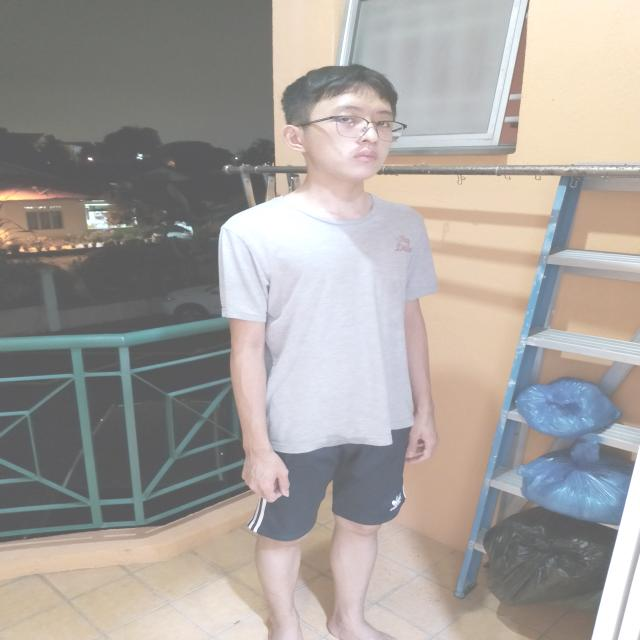person_without_labcoat: (220, 65, 437, 639)
